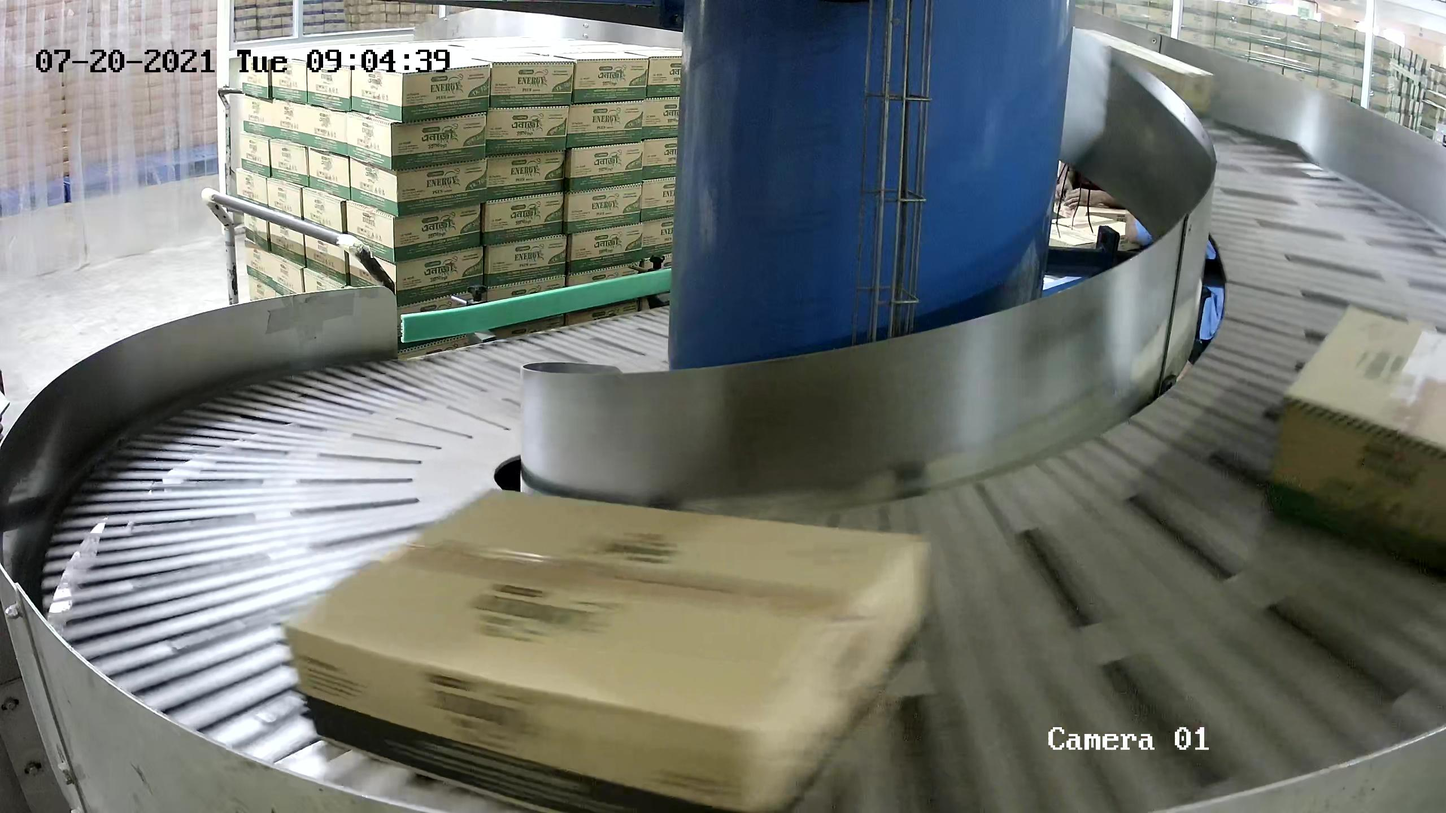Box: (278, 484, 933, 813), (1262, 302, 1446, 569)
